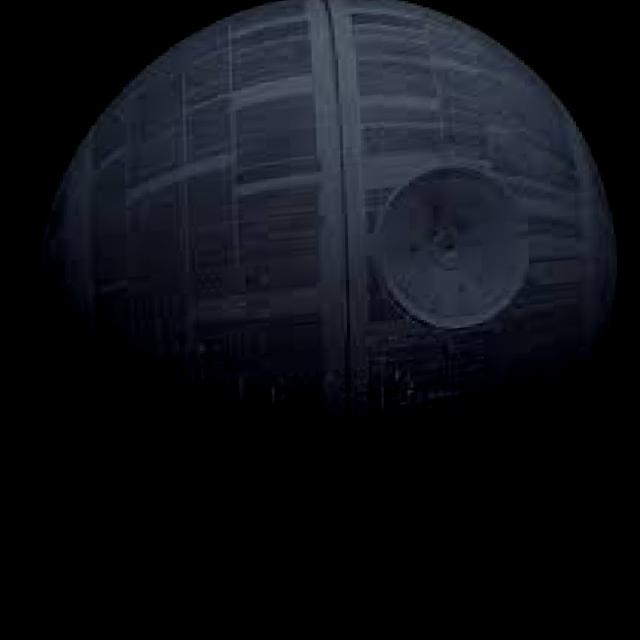deathStar: (30, 0, 622, 572)
